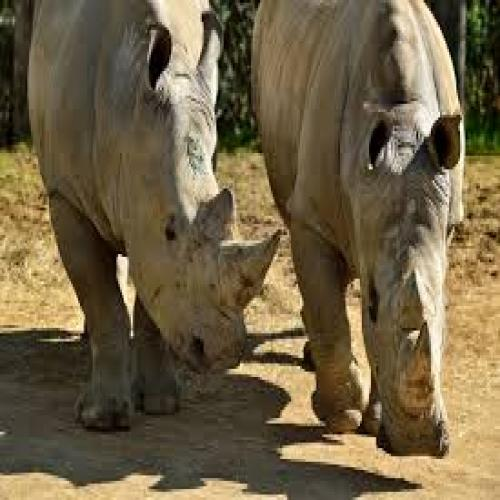rhino-endangered: (25, 0, 282, 413), (254, 0, 465, 455)
